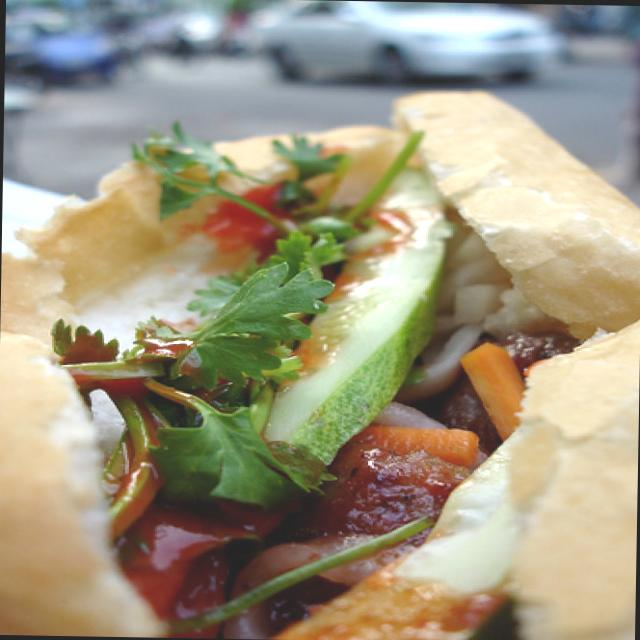Vehicle: (240, 0, 555, 86), (31, 24, 132, 88)
